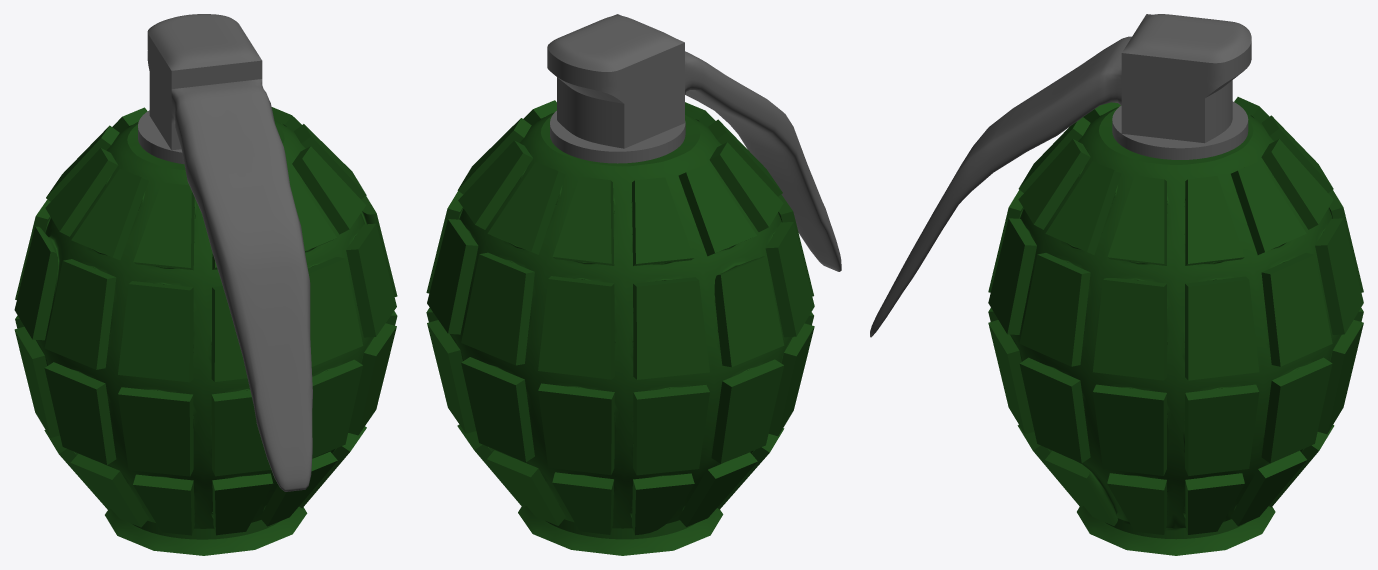
File: Grenade_high.FBX
The picture shows the model from 3 angles, left to right: view 1: azimuth 30°, elevation 25°; view 2: azimuth 150°, elevation 25°; view 3: azimuth 270°, elevation 25°; orthographic projection.
Visible parts, largest first — view 1: Grenade_high; view 2: Grenade_high; view 3: Grenade_high.
Part boxes in pixels (x1,y1,x2,y2): Grenade_high: (14,14,397,555); Grenade_high: (426,14,841,555); Grenade_high: (870,14,1363,555).
Size of the model in its own units: 5.89 by 7.96 by 7.4.
